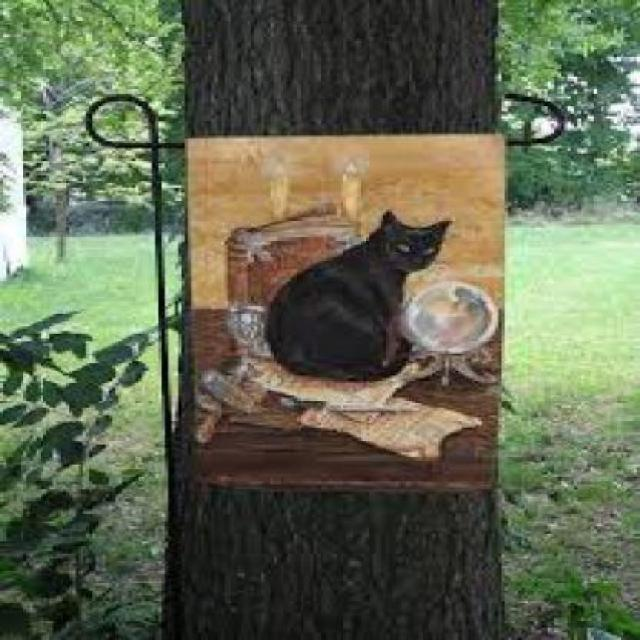animals: (254, 208, 472, 378)
